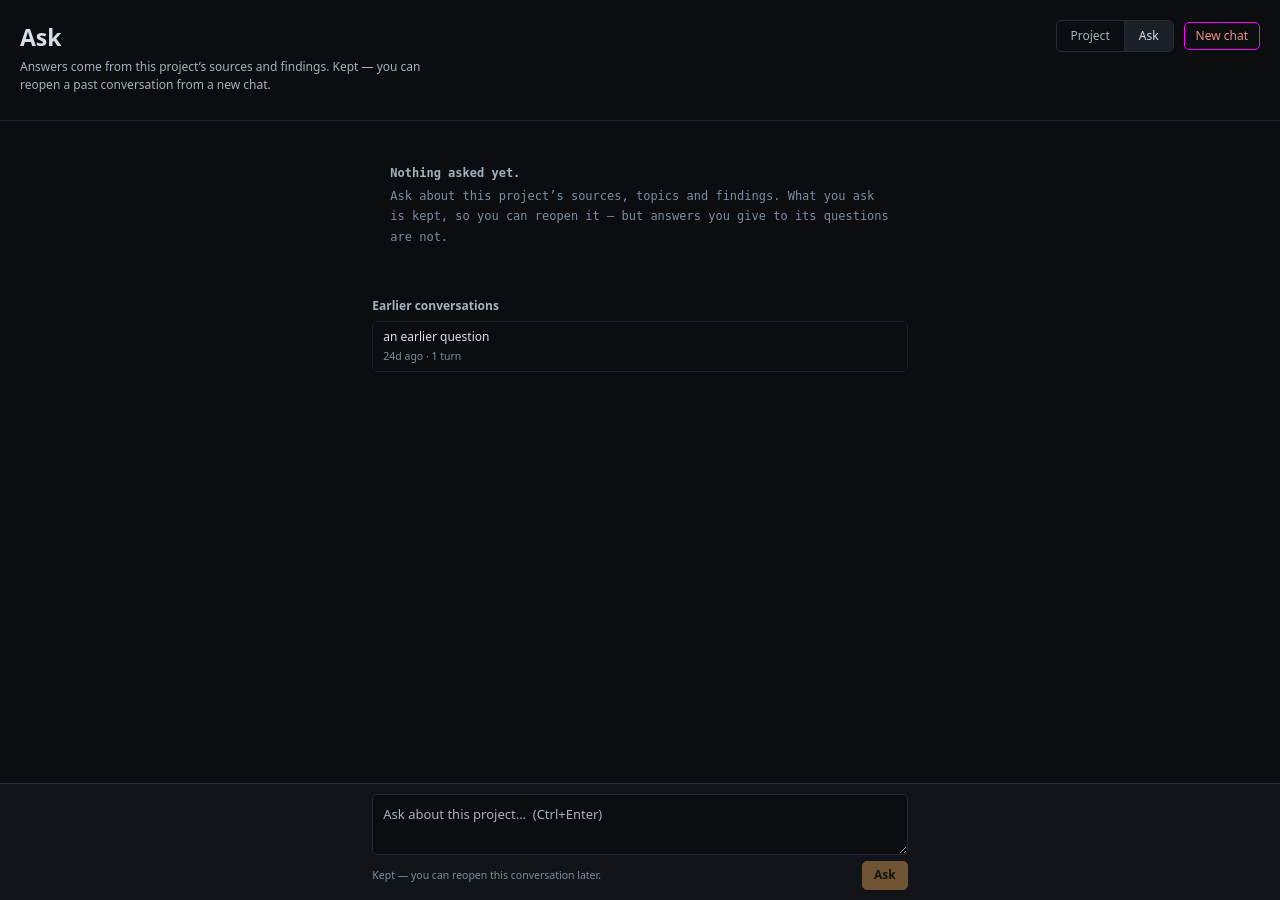
hides the list once a question has been asked, and brings it back on a new chat
expect the link "an earlier question 24d ago · 1 turn" is shown: met, box [372,321,908,372]
Type "why?" into the text box at (640, 825), box [372,794,908,855]
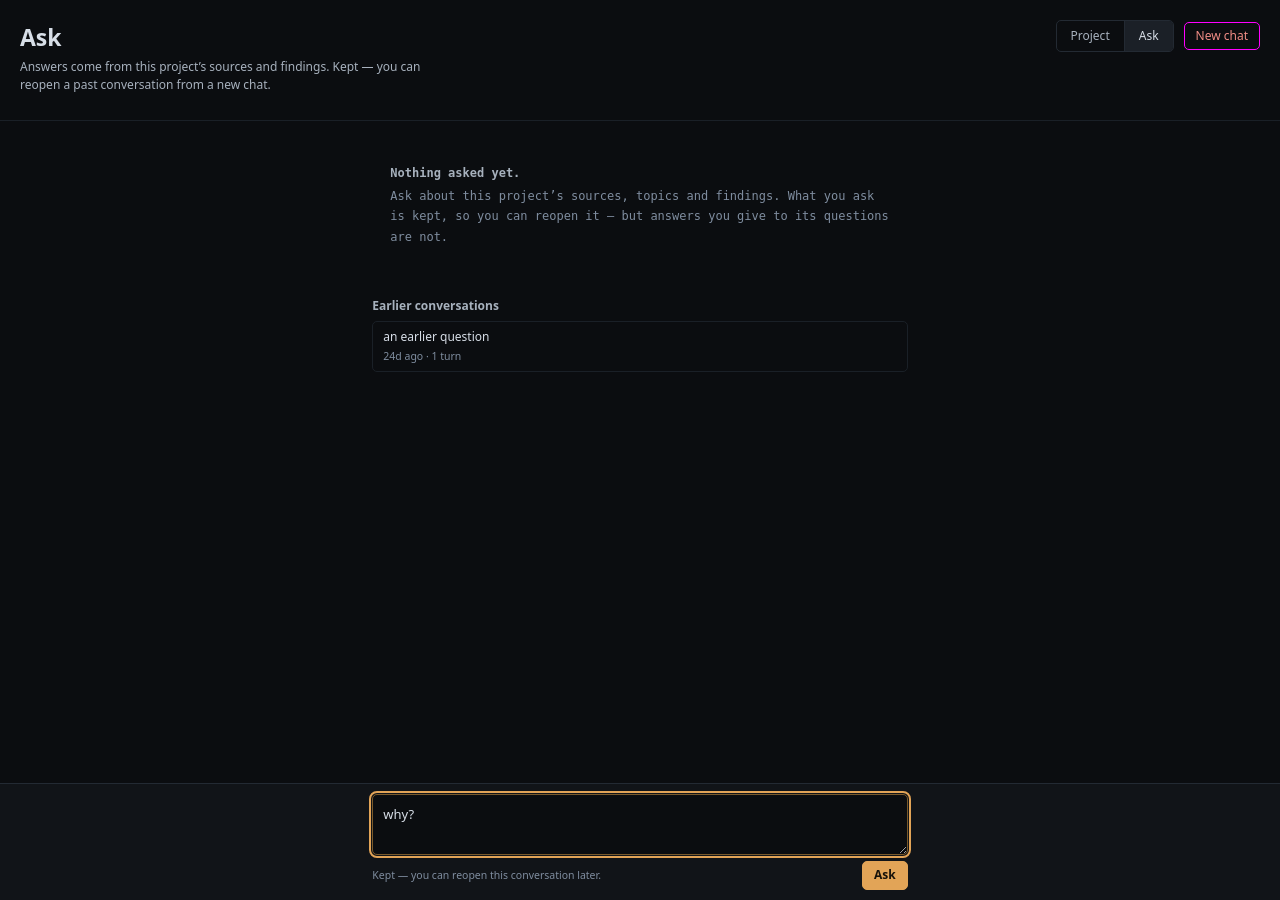
Click the button "Ask" at (885, 876), box [862,861,908,890]
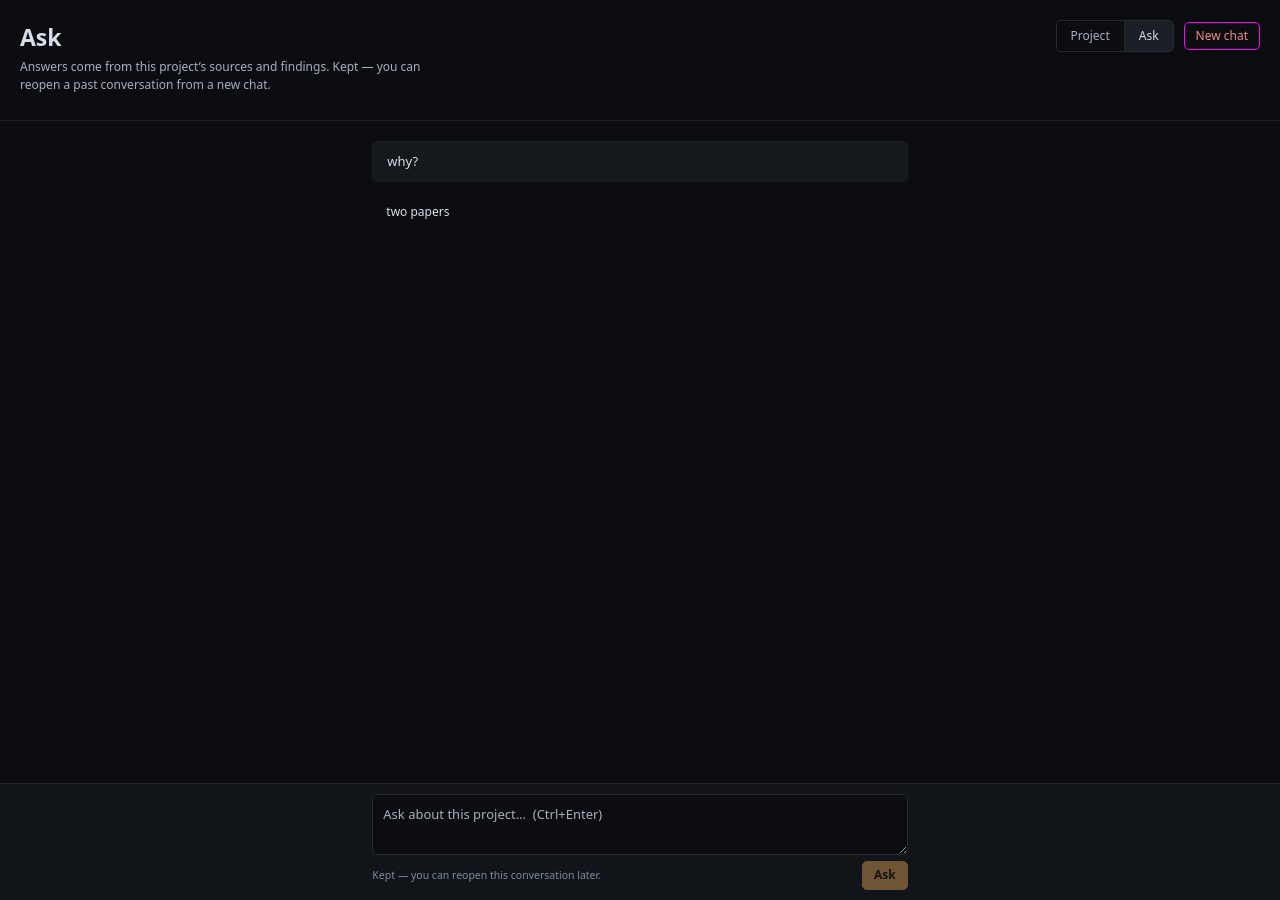
expect the text "two papers" is shown: met, box [386,203,449,220]
expect the link "an earlier question" is gone: met
Click the button "New chat" at (1222, 36), box [1184,22,1260,50]
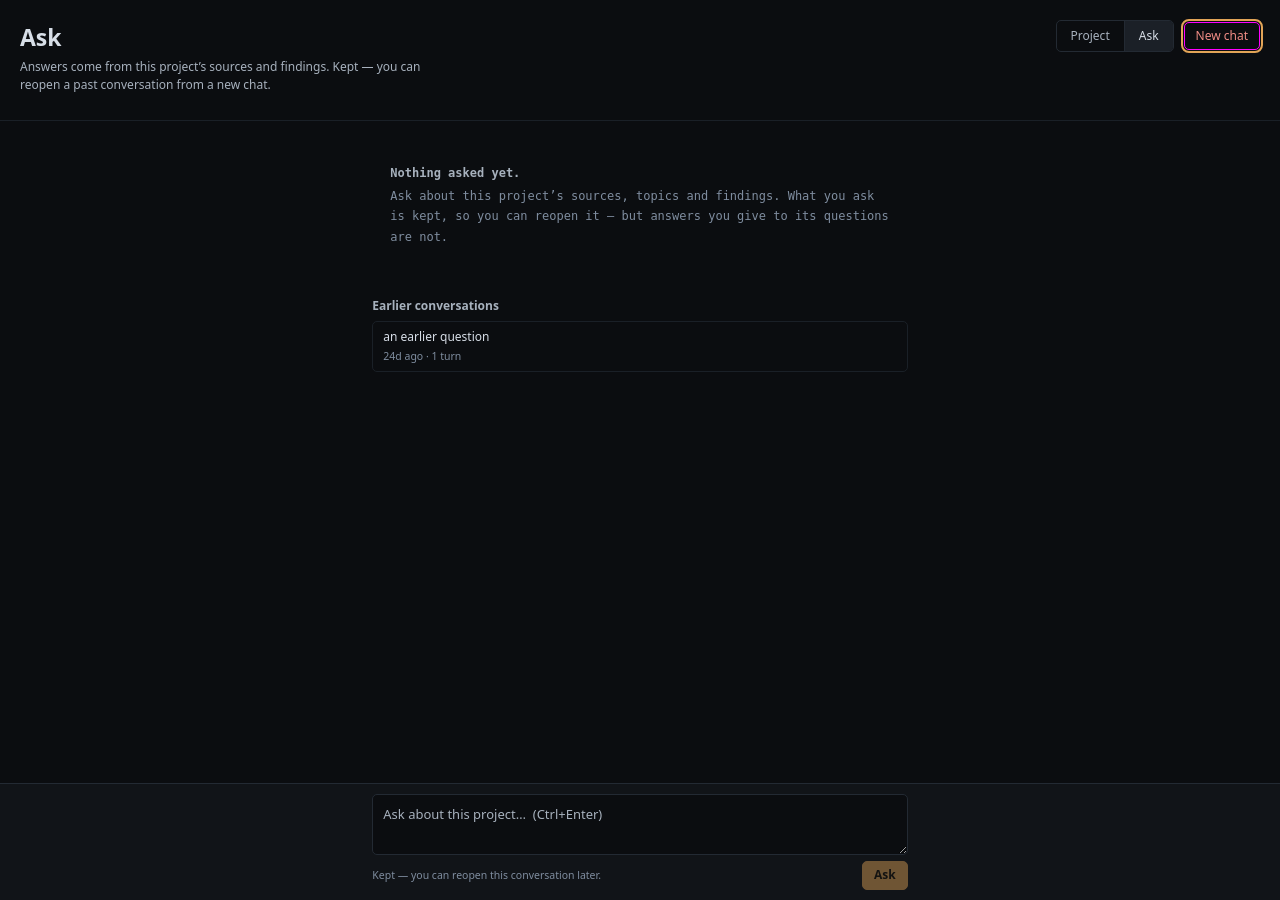
expect the link "an earlier question 24d ago · 1 turn" is shown: met, box [372,321,908,372]
